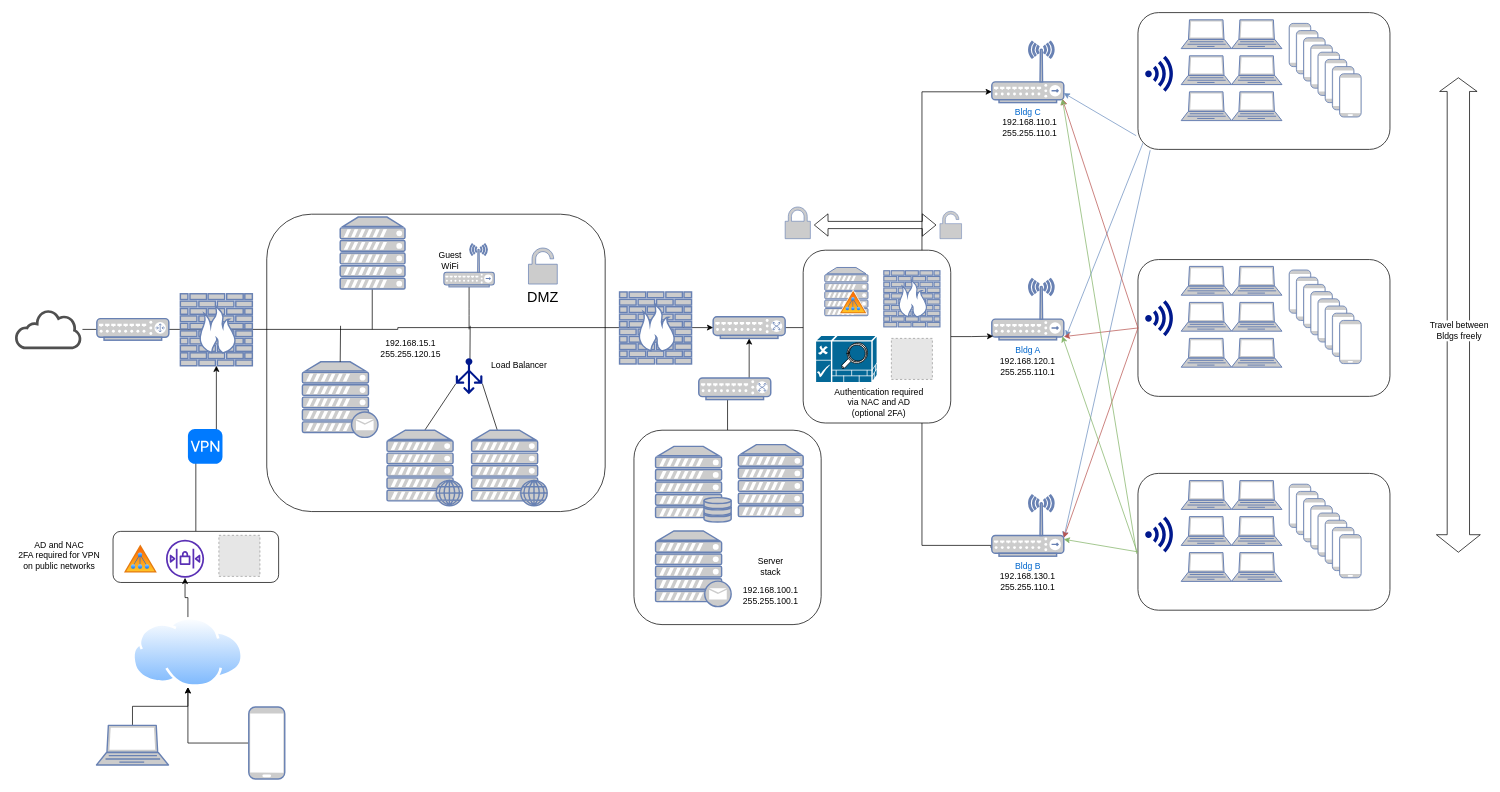
Image size: 1500x792. Some labels were removed from this diagram. Grey dashed boxes stand in for pictures. Here are the shapes that lost their labels. From the top down, the centre of each, then its label:
pixel 372 252: IDS/IPS
pixel 48 329: ISP
